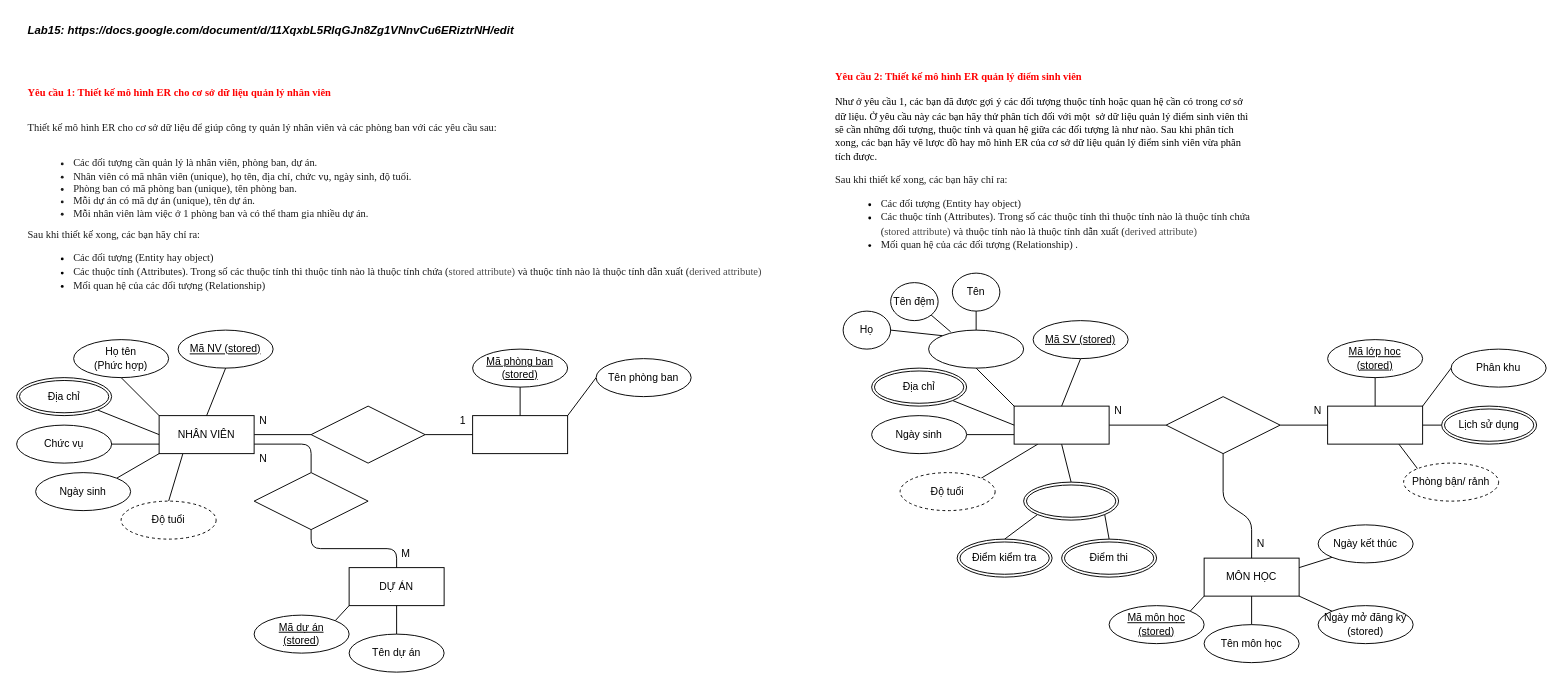
The diagram is 1563 pixels wide and 689 high, and some of its shapes have lost their labels. The shapes that lost their labels are listed below. From the top down, each one's box as (x1, y1, x2, y2) in pixels, then its label:
(928, 329, 1024, 368): Họ tên
(310, 405, 425, 463): làm việc
(472, 415, 568, 454): PHÒNG BAN
(1013, 405, 1109, 444): SINH VIÊN
(1165, 396, 1280, 454): học tập
(1327, 405, 1423, 444): LỚP HỌC
(253, 472, 368, 530): tham dự
(1023, 481, 1119, 520): Điểm
